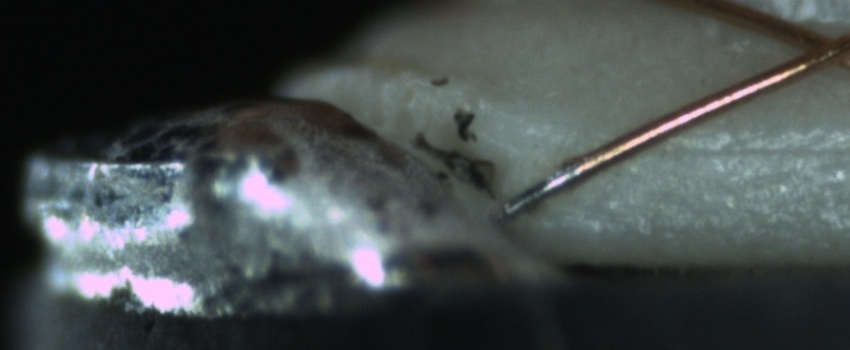CL: (776, 15, 850, 78)
DL: (647, 118, 844, 183)
TS: (501, 160, 581, 218)
TTCW: (506, 141, 622, 217)
